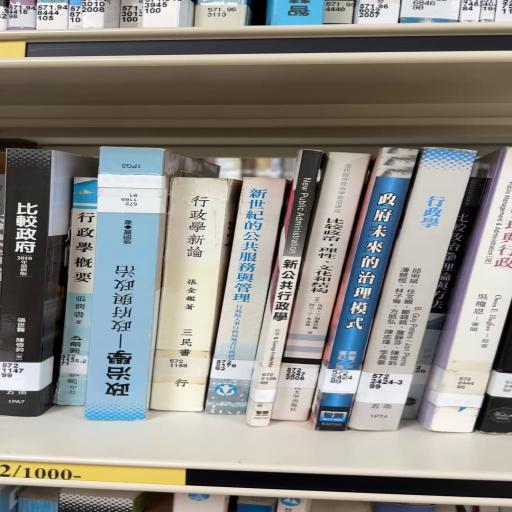reverse: (85, 148, 220, 422)
